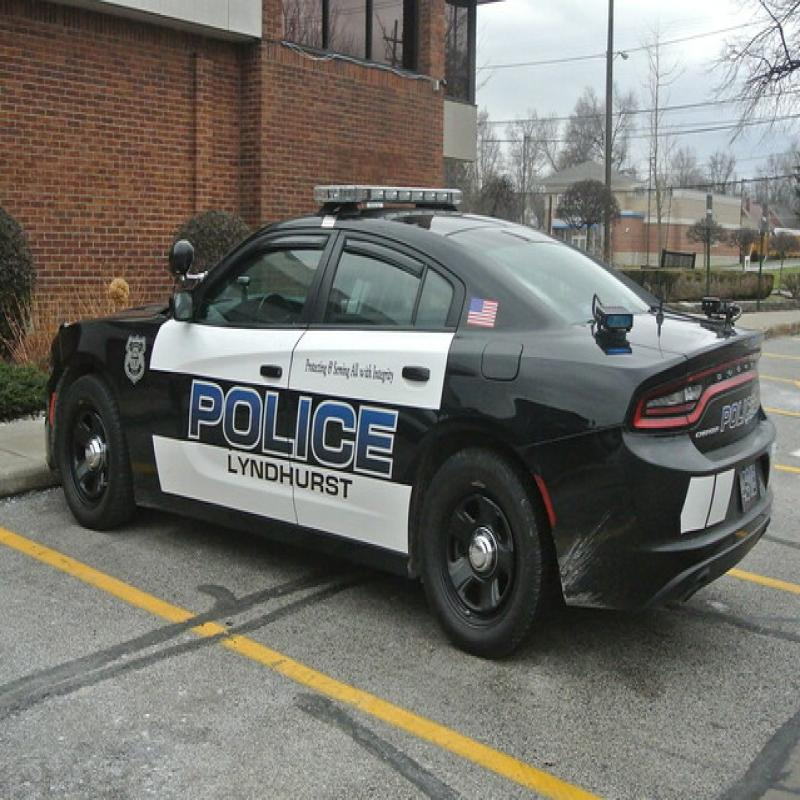AmbulanceSiren: (308, 166, 478, 211)
